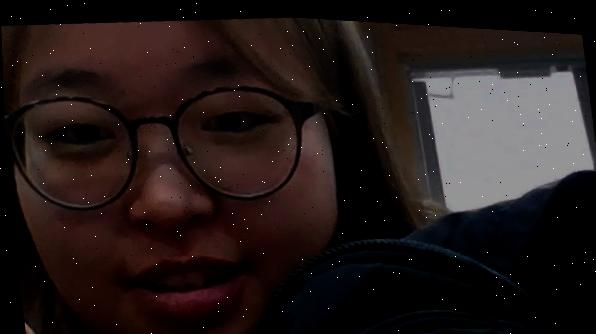eye: (73, 120, 100, 143), (216, 108, 242, 131)
iris: (201, 107, 269, 135), (48, 118, 116, 145)
